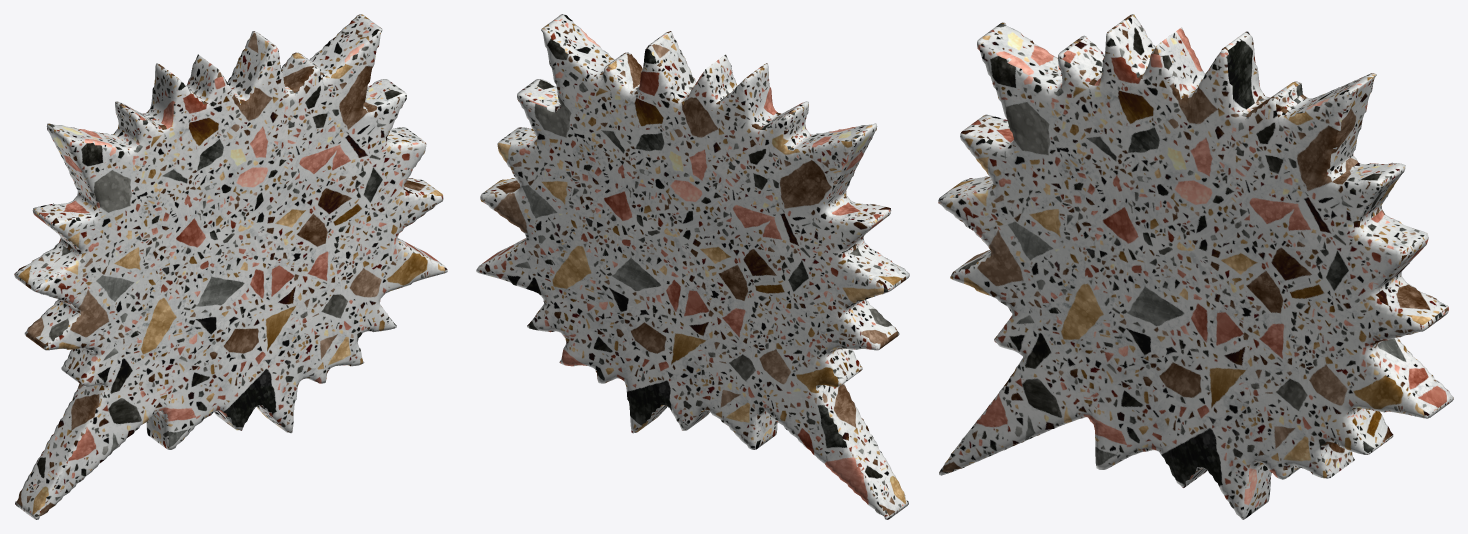
The model's file is tezza.glb.
3 views of the same model, side by side, from view 1: azimuth 30°, elevation 25°; view 2: azimuth 150°, elevation 25°; view 3: azimuth 330°, elevation 25° (orthographic). The views are drawn at different scales.
Parts seen in each view (by area): view 1: Curve; view 2: Curve; view 3: Curve.
Part boxes in pixels (x1,y1,x2,y2): Curve: [14, 14, 447, 519]; Curve: [476, 14, 909, 519]; Curve: [938, 14, 1453, 519].
Bounding box in the file's own units: 4.08 × 3.93 × 0.4.
Materials: 1 (1 with a texture image).
